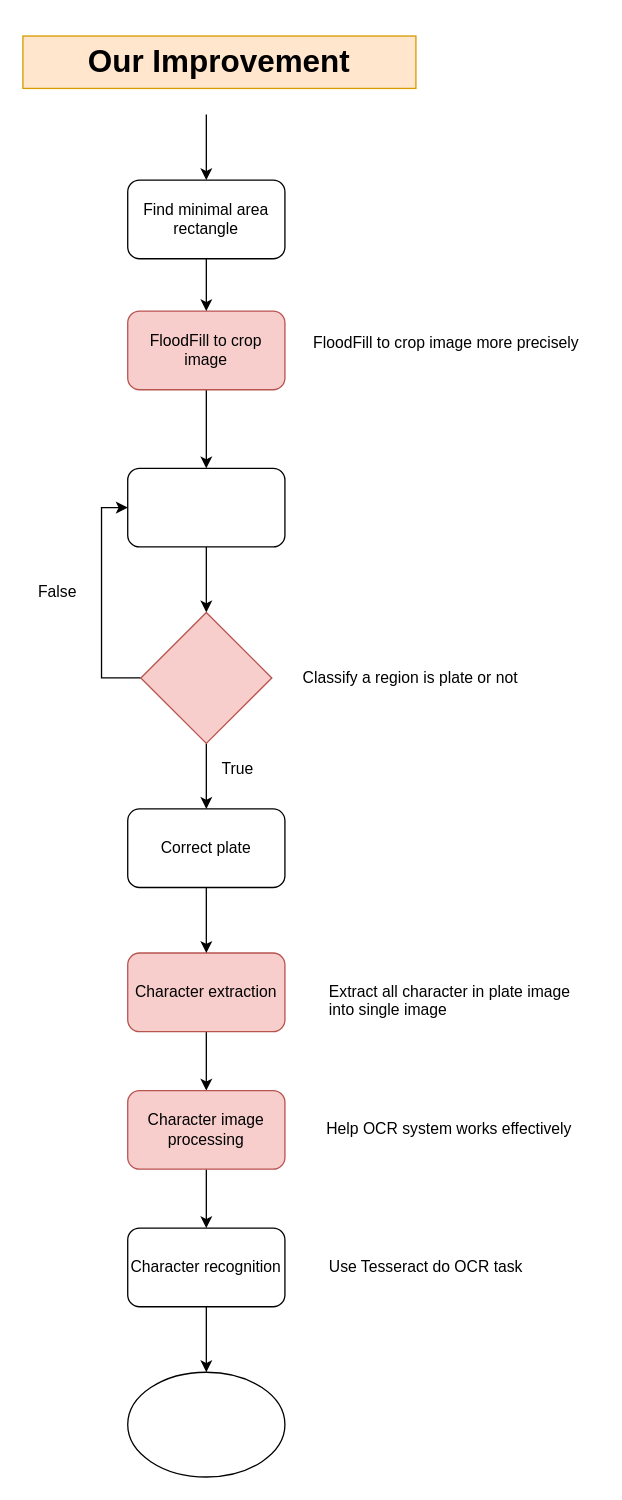
This 622x1500 diagram has some shape labels left out. The shapes that lost their labels are listed below. From the top down, each one's box as (x1, y1, x2, y2) in pixels, then its label:
(126, 467, 285, 547): Possible plates
(140, 611, 272, 743): SVM classifier
(126, 1371, 285, 1477): Plate number
